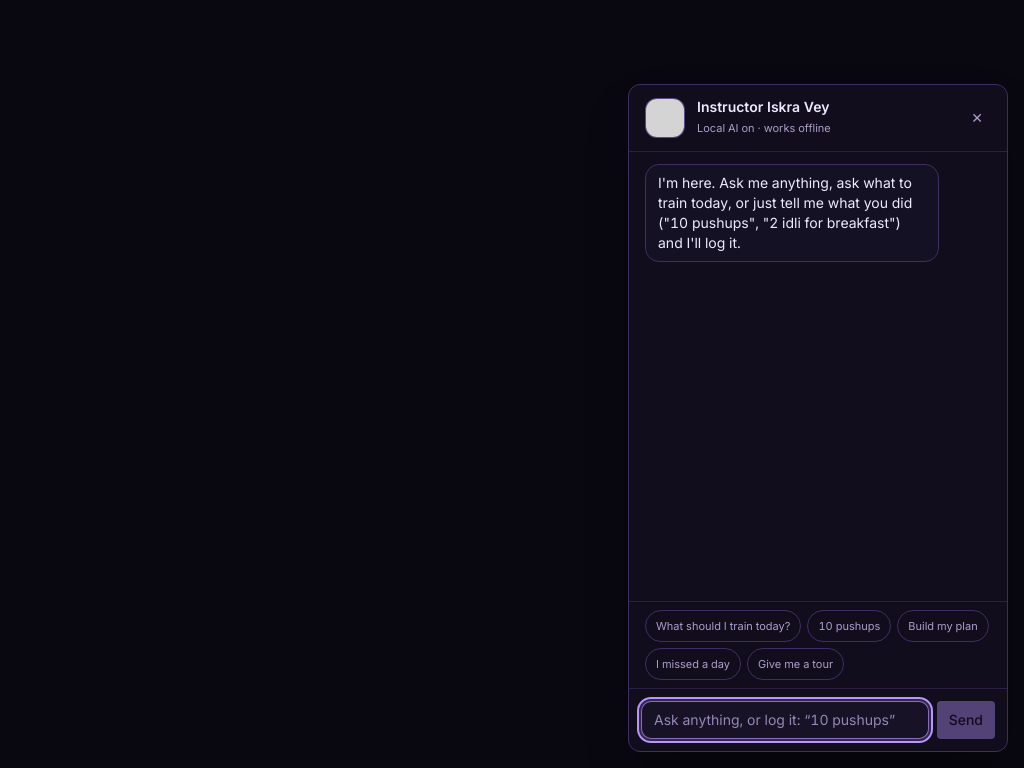
TrainerChat › shows a proposed action as a card that runs only on Confirm, then offers Undo
Type "weight 81.4" into the field named "Message the trainer" at (785, 720), box [641, 701, 929, 739]
Then press Enter
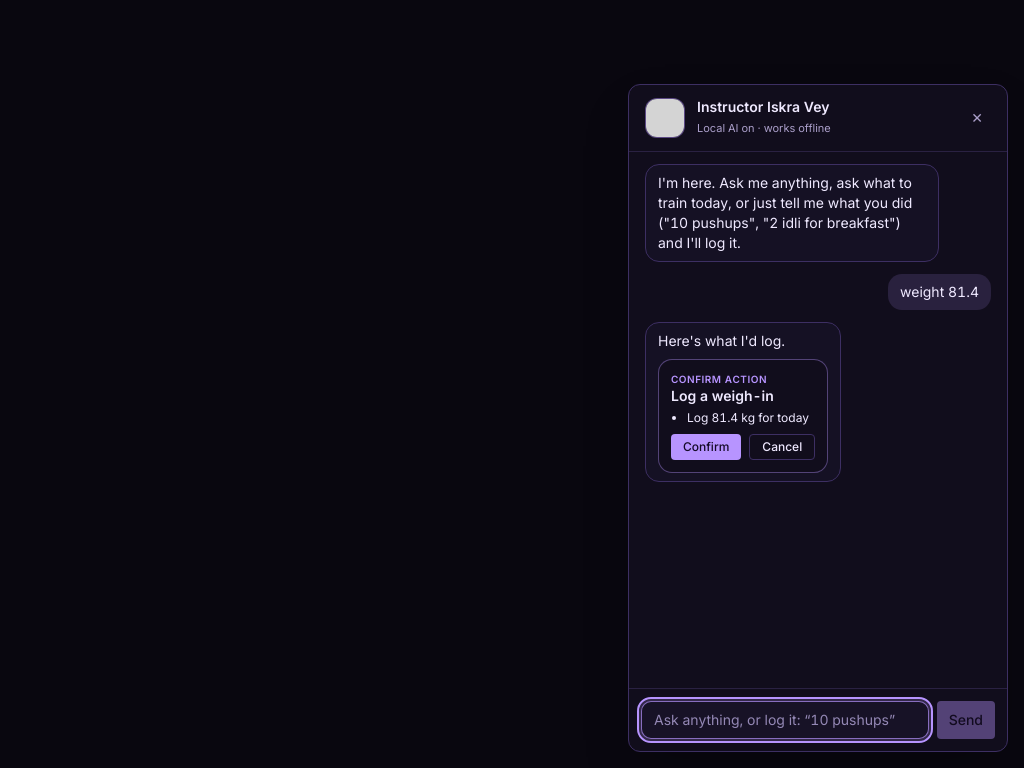
Check: the element with test id "action-card" shows "Log 81.4 kg for today", box [687, 410, 809, 425]
Click the button "Confirm" at (706, 447), box [671, 434, 741, 460]
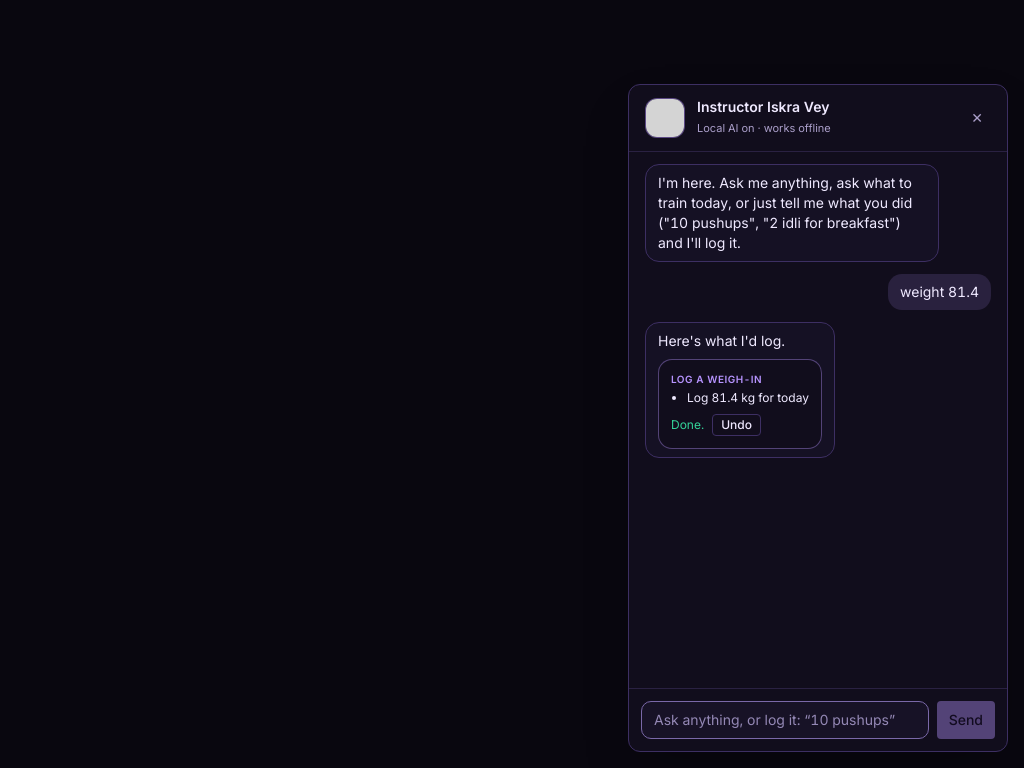
Click the button "Undo" at (737, 425), box [712, 414, 761, 436]
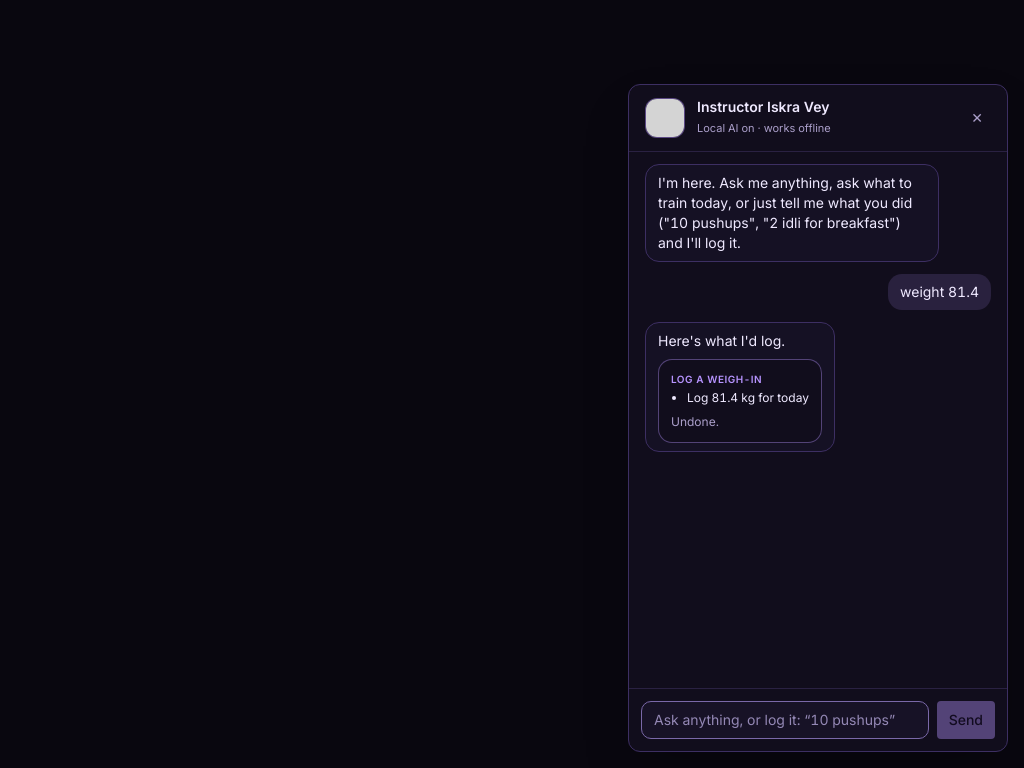
Check: the text "Undone." is shown, box [671, 414, 719, 429]
